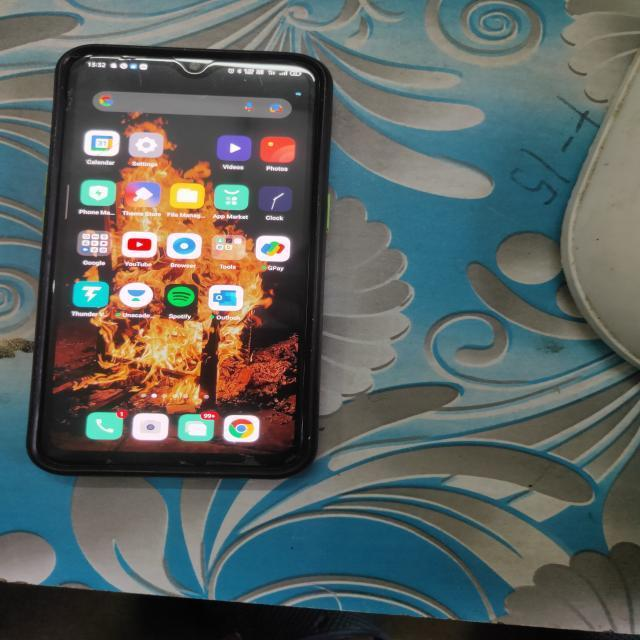Phone: (26, 44, 339, 484)
